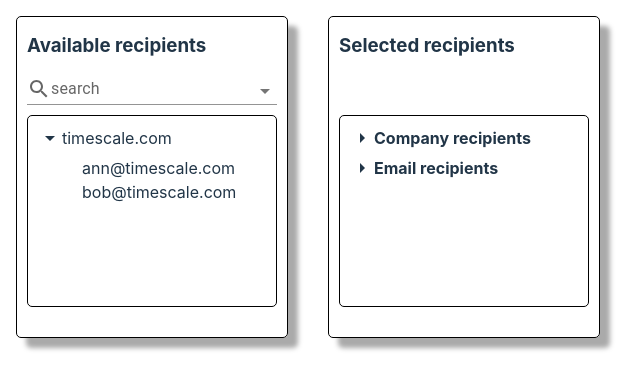
it: Recipients Component › removes recipient from selected list on click
Click the icon with test id "expand-arrow" at (362, 168), box top-left (350, 156), bottom-right (374, 180)
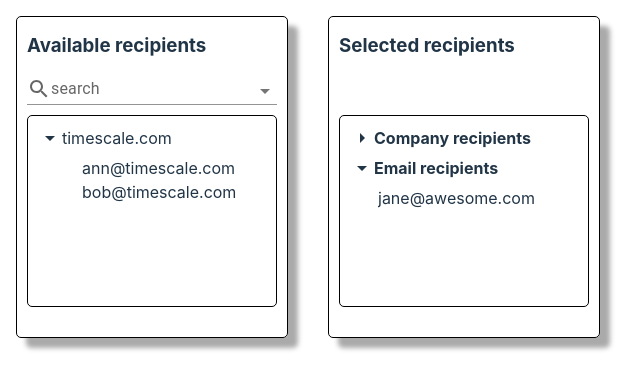
Click the list item "jane@awesome.com" at (456, 198), box top-left (378, 188), bottom-right (535, 208)
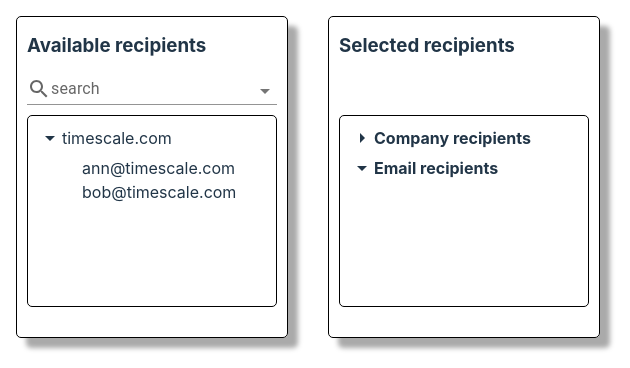
Check: the list item "jane@awesome.com" is gone
